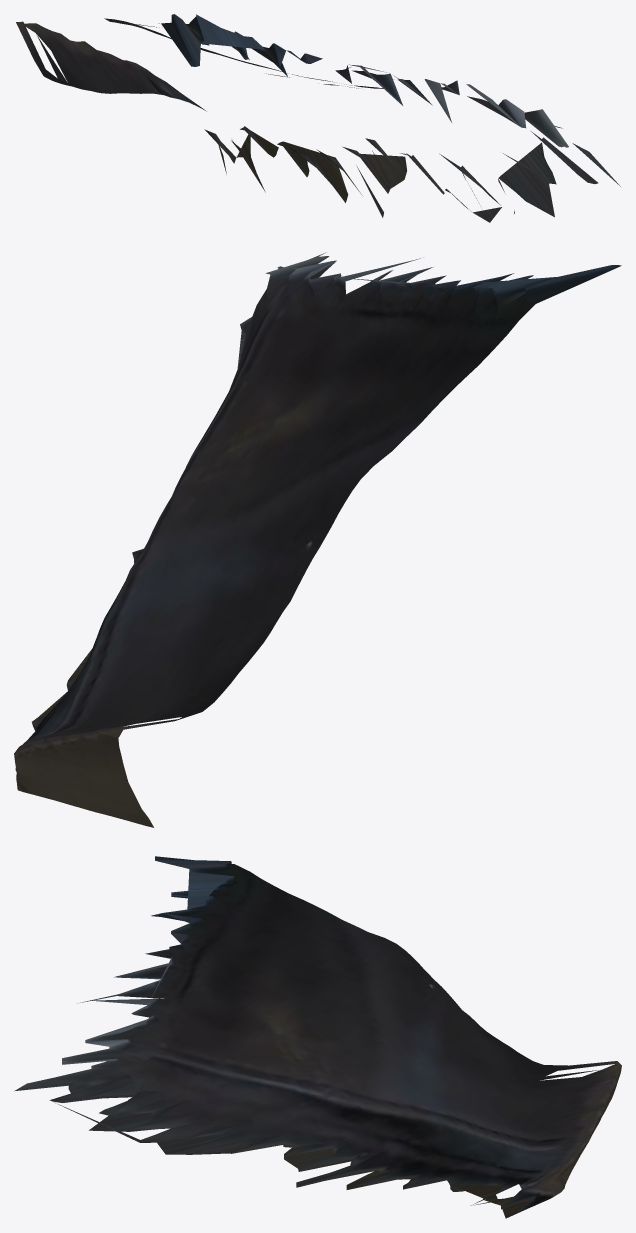
Rendered from observed-surface.glb.
The picture shows the model from 3 angles, top to bottom: view 1: azimuth 30°, elevation 25°; view 2: azimuth 150°, elevation 25°; view 3: azimuth 270°, elevation 25°; orthographic projection. The views are drawn at different scales.
Visible parts, largest first — view 1: geometry_0; view 2: geometry_0; view 3: geometry_0.
Boxes of the visible parts, bbox=[...] form: geometry_0: bbox=[16, 14, 620, 222]; geometry_0: bbox=[14, 252, 621, 827]; geometry_0: bbox=[14, 856, 621, 1218].
Bounding box in the file's own units: 0.4668 × 0.4528 × 0.9251.
Materials: 1 (1 with a texture image).
